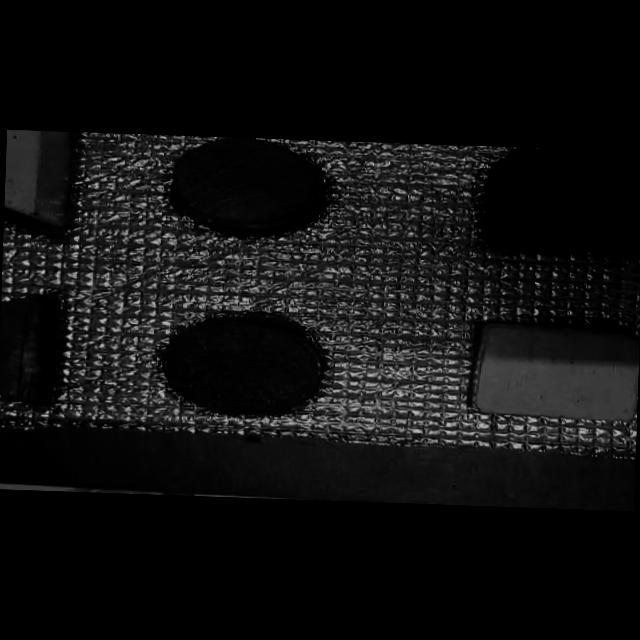bcircle: (147, 302, 342, 428)
rcircle: (147, 138, 353, 244)
ycube: (468, 315, 640, 428)
